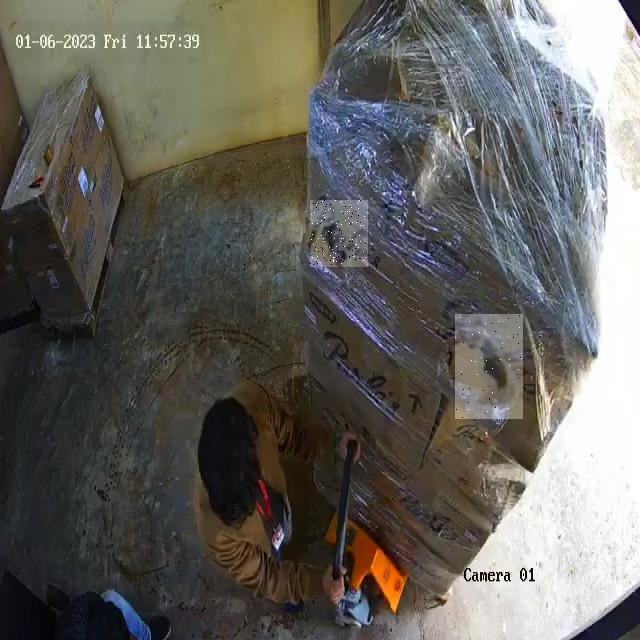leakage: (455, 315, 523, 419), (311, 200, 366, 265)
